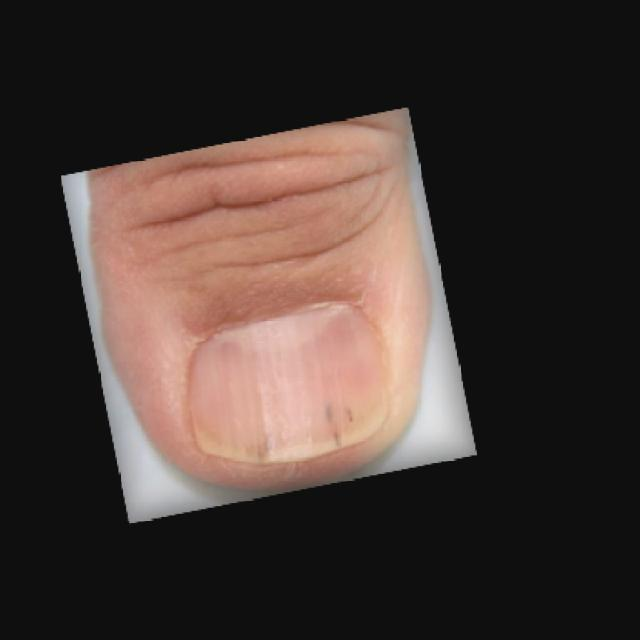Nail: (189, 304, 391, 460)
